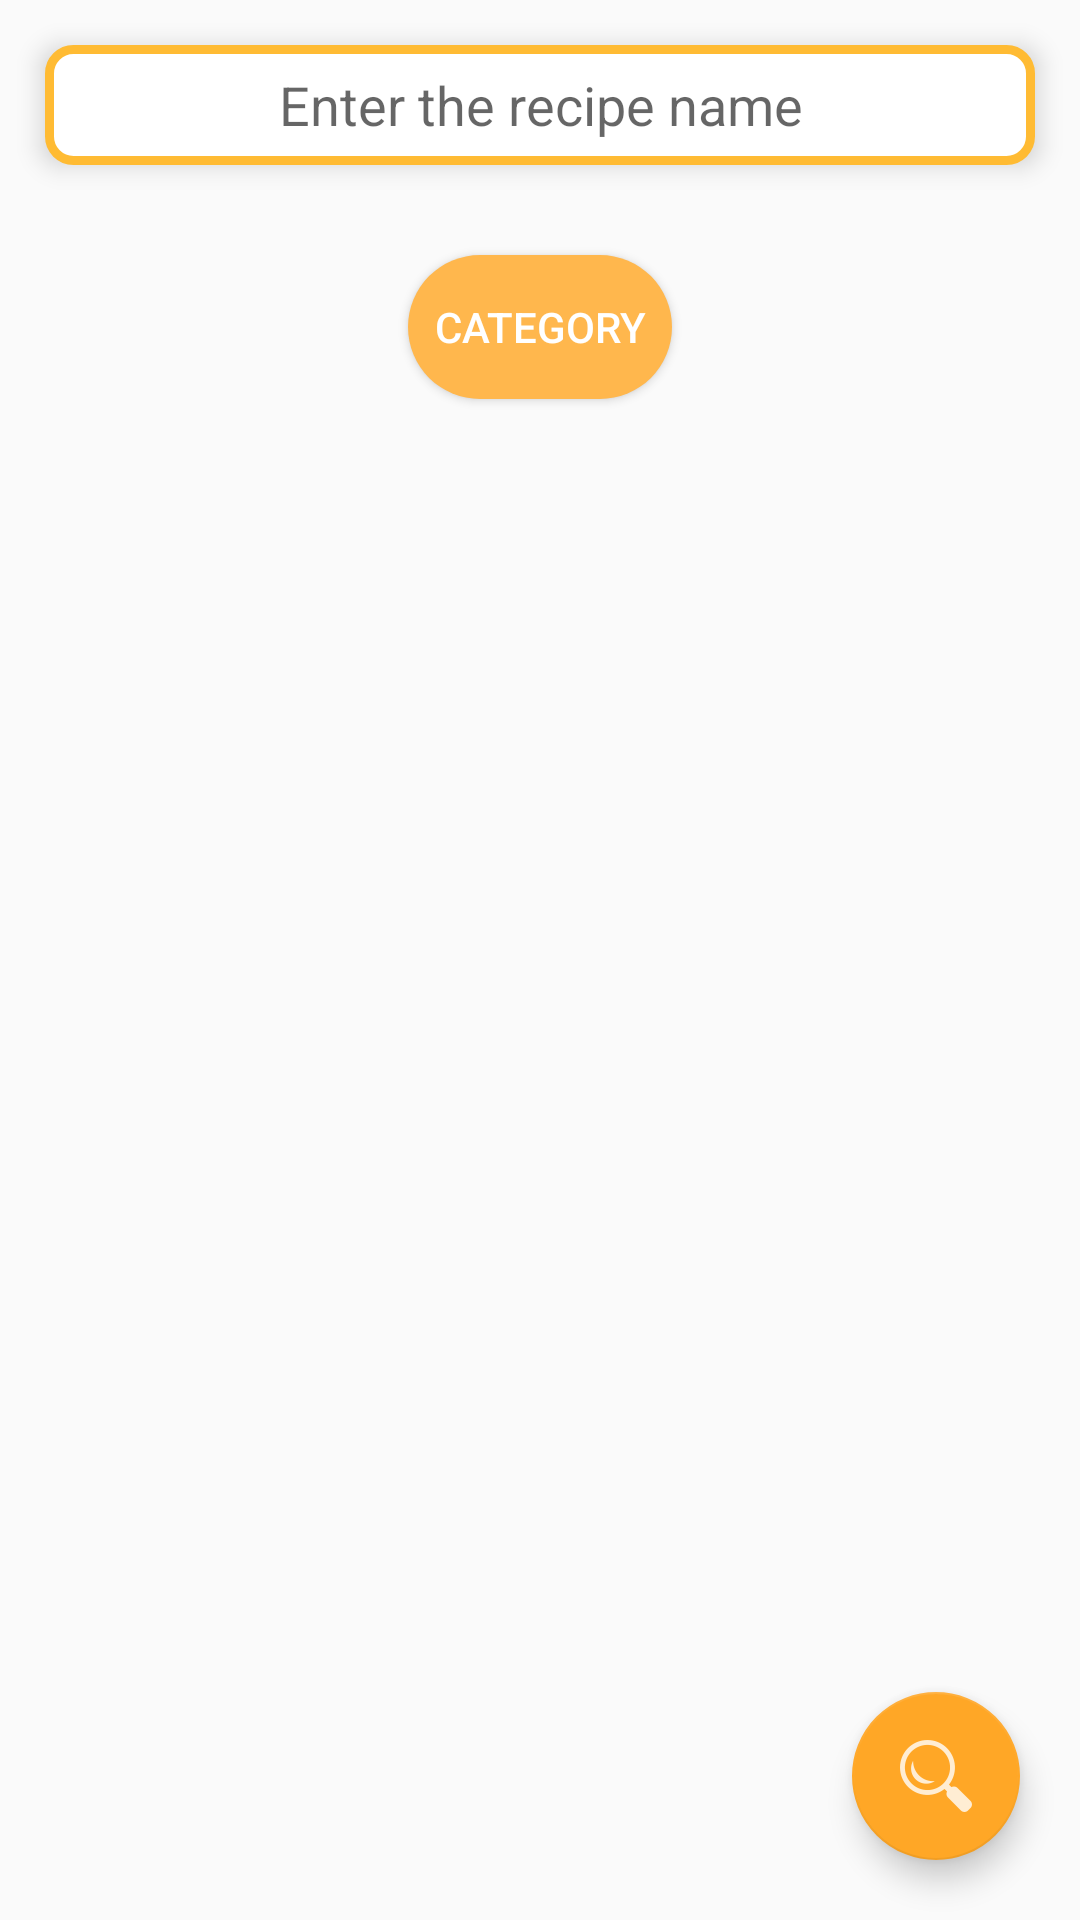

Screen size 1080×1920. Icon name, then its center in pixels as (x,y):
search: (936,1776)
